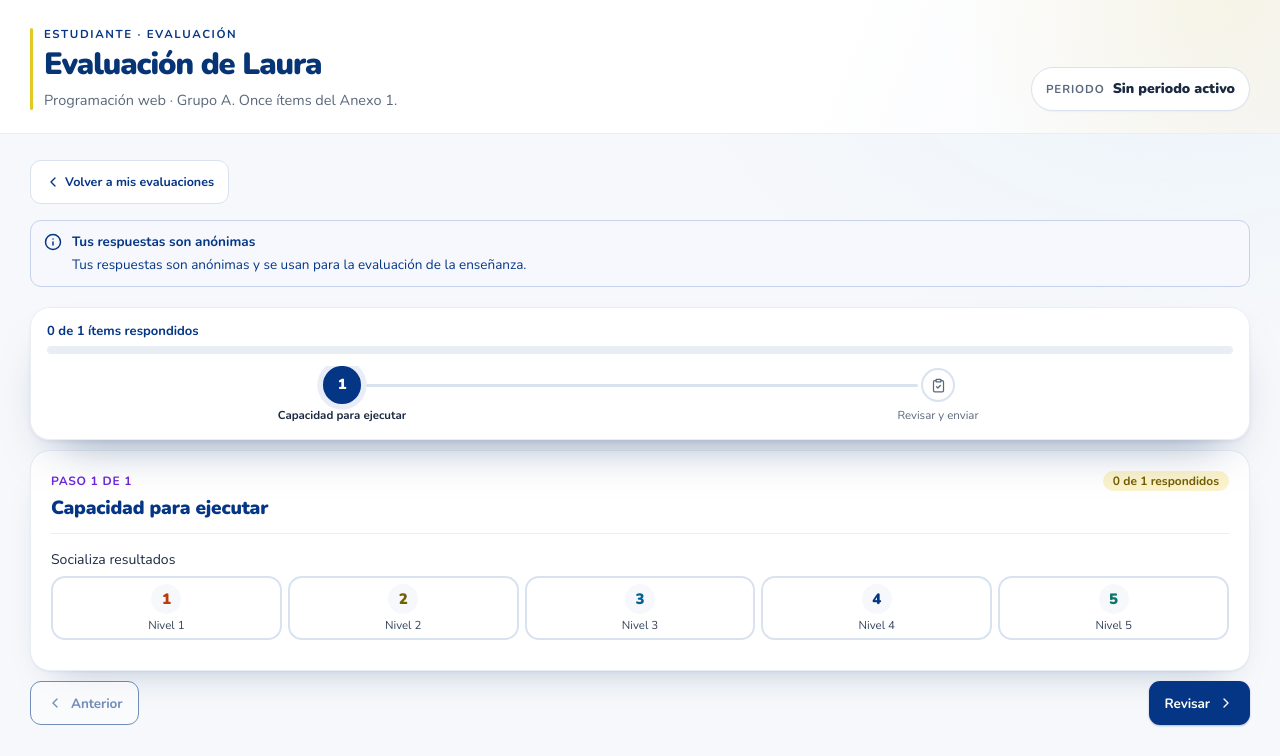
Test: HeteroevaluacionClase › muestra el 409 del doble envío
The image size is (1280, 756).
Click the radio button labelled "Nivel 3" at (640, 608), box [525, 576, 755, 640]
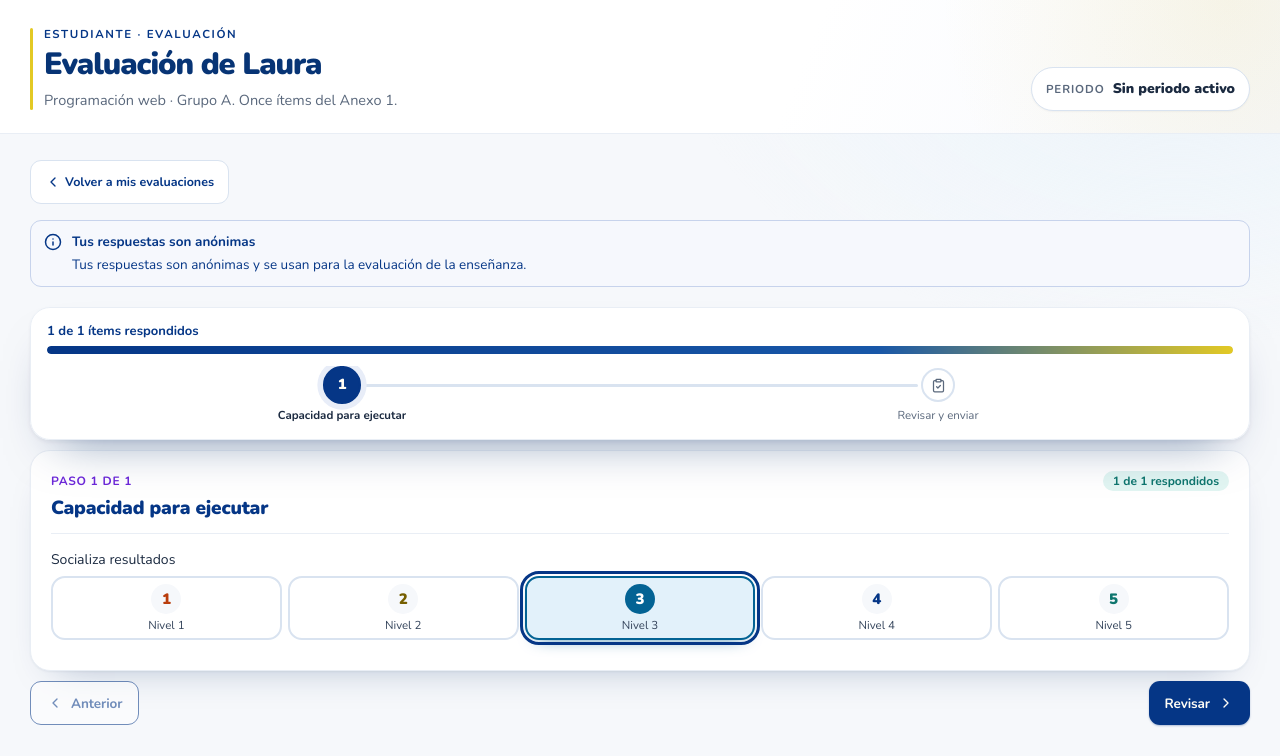
Click the button "Revisar" at (1199, 703), box [1149, 681, 1250, 725]
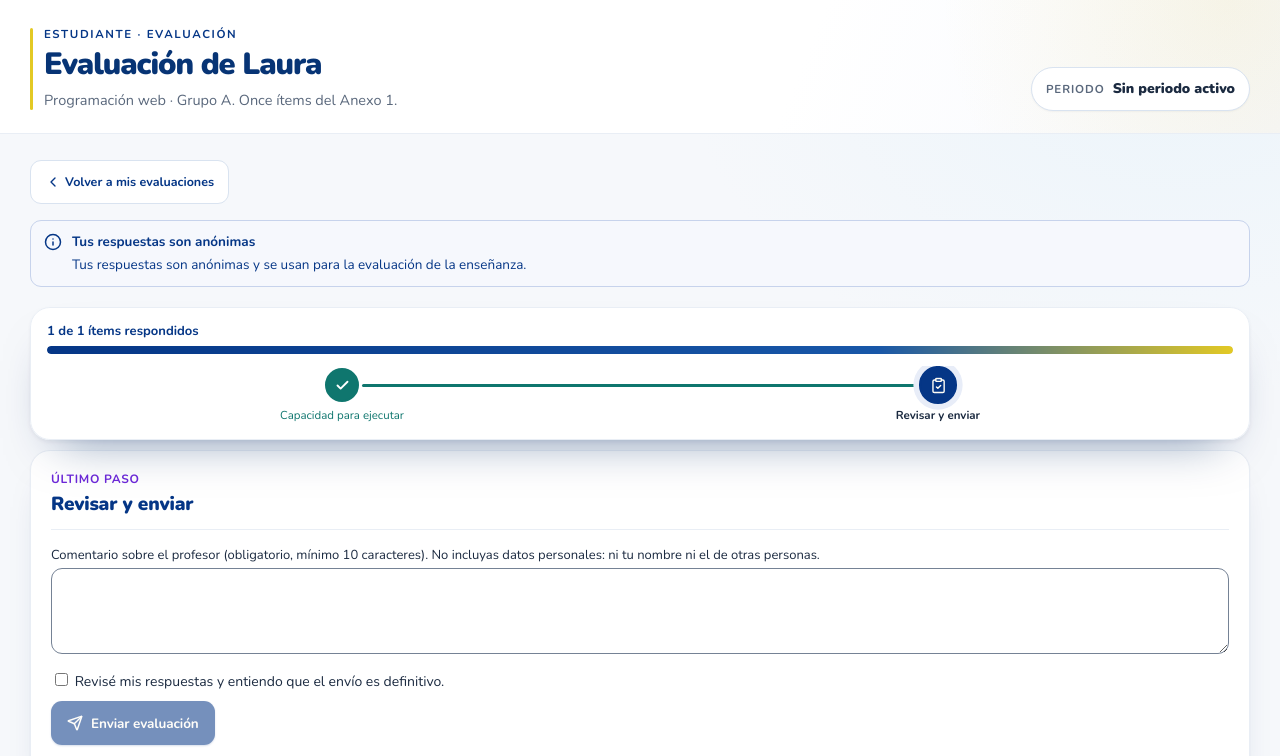
Type "Explica con ejemplos" into the text box at (640, 611), box [51, 568, 1229, 654]
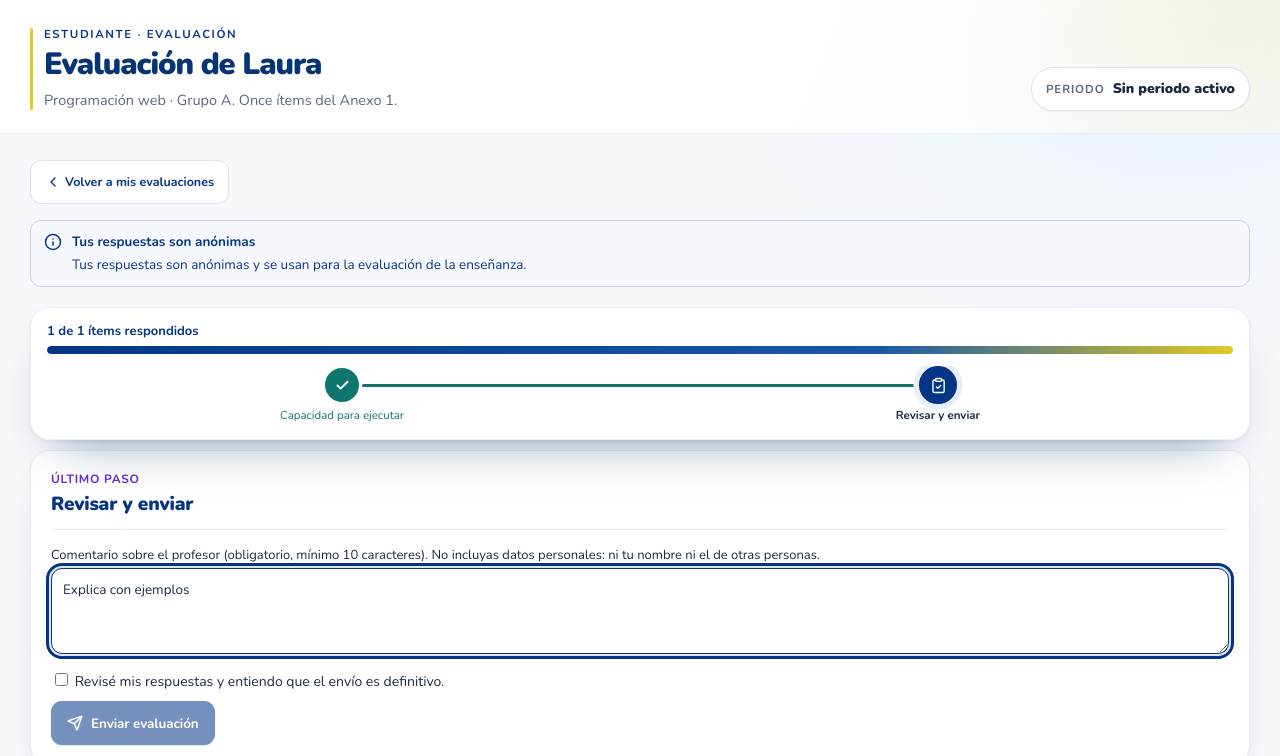
Click the checkbox at (62, 680), box [55, 674, 68, 686]
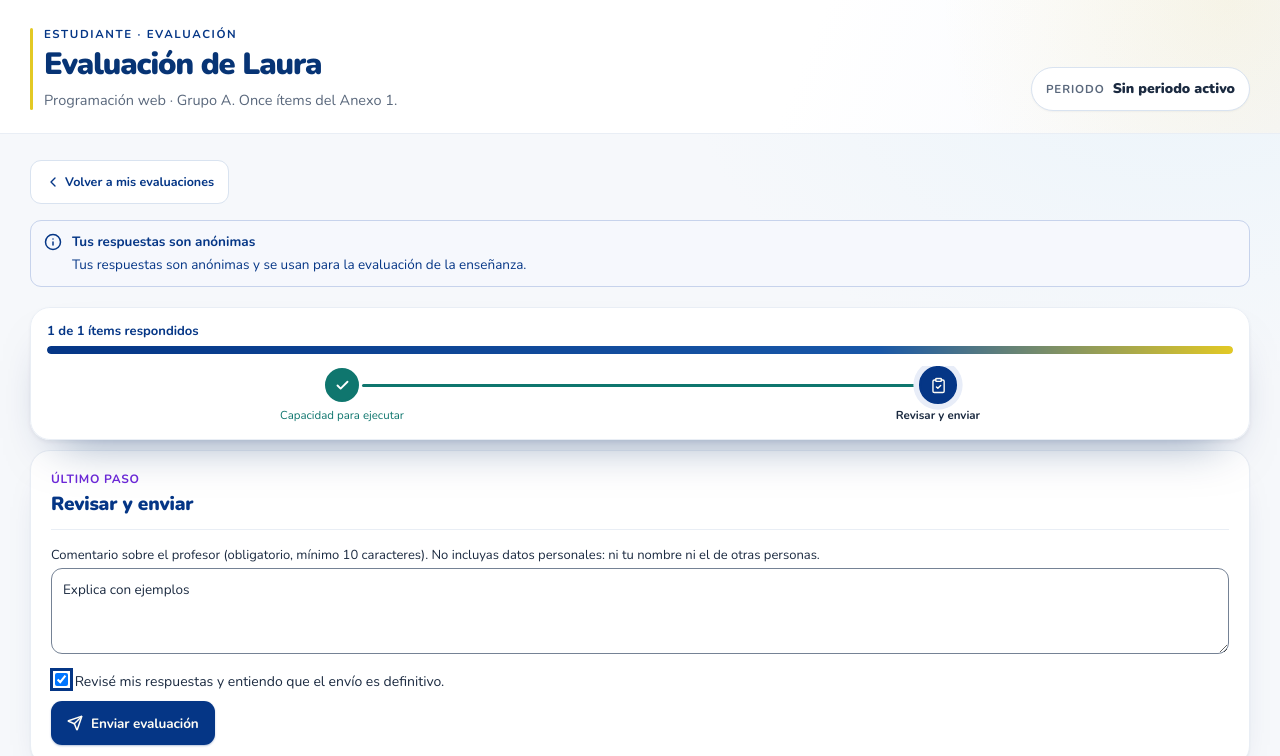
Click the button "Enviar evaluación" at (133, 724), box [51, 702, 215, 746]
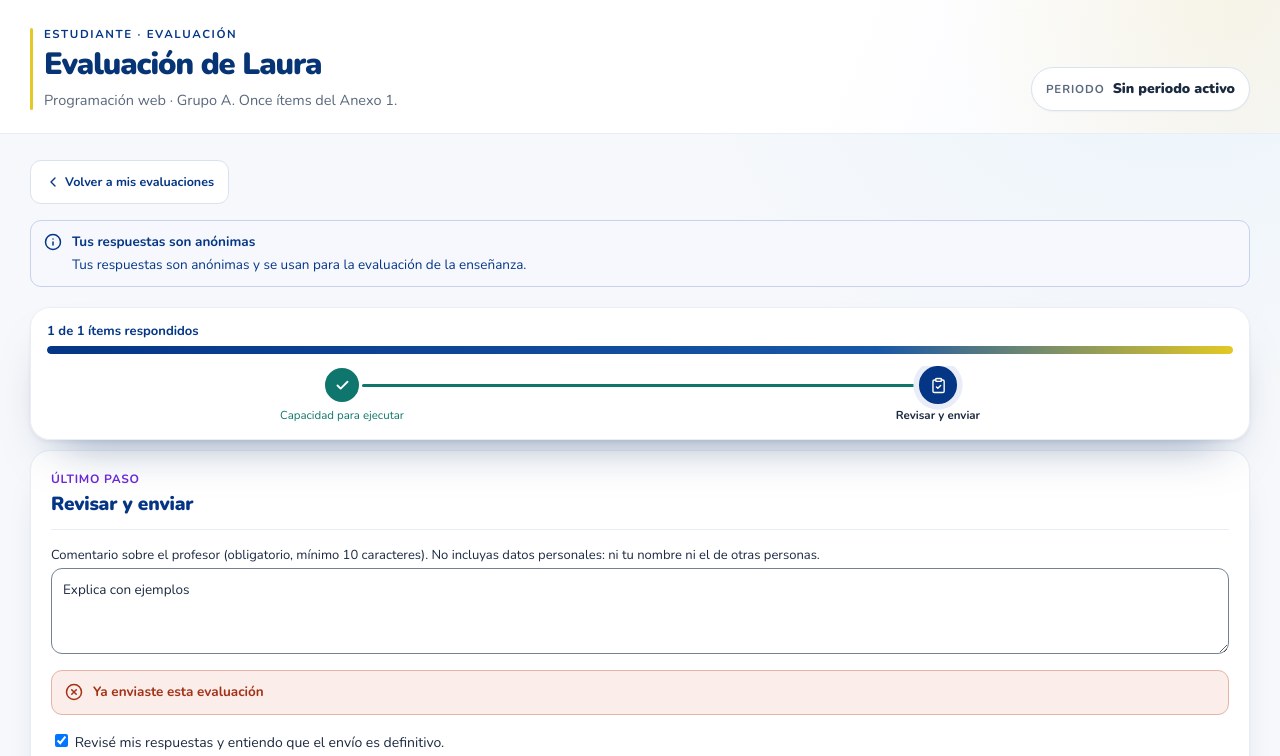
expect the text "Ya enviaste esta evaluación" is shown: met, box [93, 682, 264, 703]
